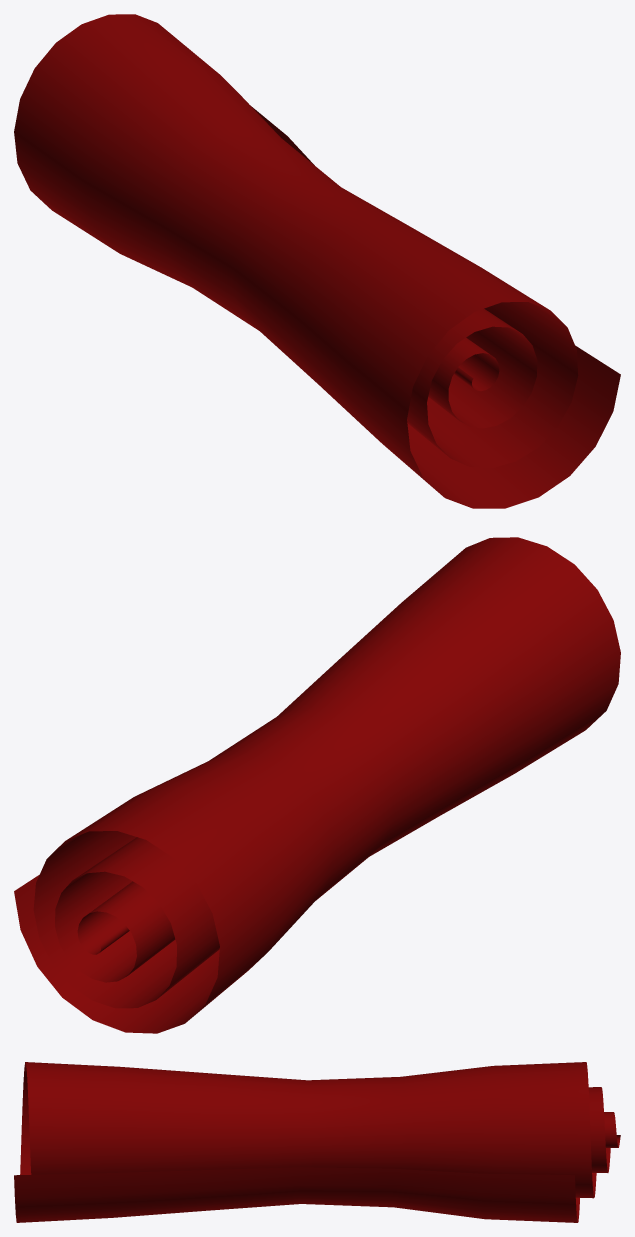
File: HalloweenRoomA_ScrollA.fbx
3 renders of one model, top to bottom at view 1: azimuth 30°, elevation 25°; view 2: azimuth 150°, elevation 25°; view 3: azimuth 270°, elevation 25°, orthographic. The views are drawn at different scales.
Visible parts, largest first — view 1: HalloweenRoomA_ScrollA; view 2: HalloweenRoomA_ScrollA; view 3: HalloweenRoomA_ScrollA.
Boxes of the visible parts, bbox=[...] form: HalloweenRoomA_ScrollA: bbox=[14, 14, 620, 508]; HalloweenRoomA_ScrollA: bbox=[14, 537, 620, 1033]; HalloweenRoomA_ScrollA: bbox=[14, 1062, 620, 1222].
Bounding box in the file's own units: 7.18 × 6.64 × 25.43.
